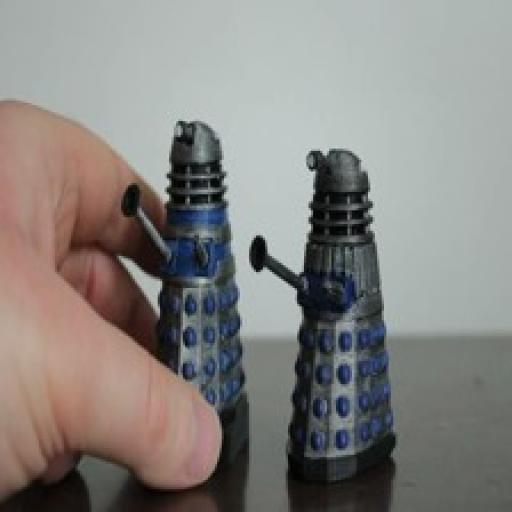dalek: (248, 141, 400, 480), (120, 115, 252, 482)
